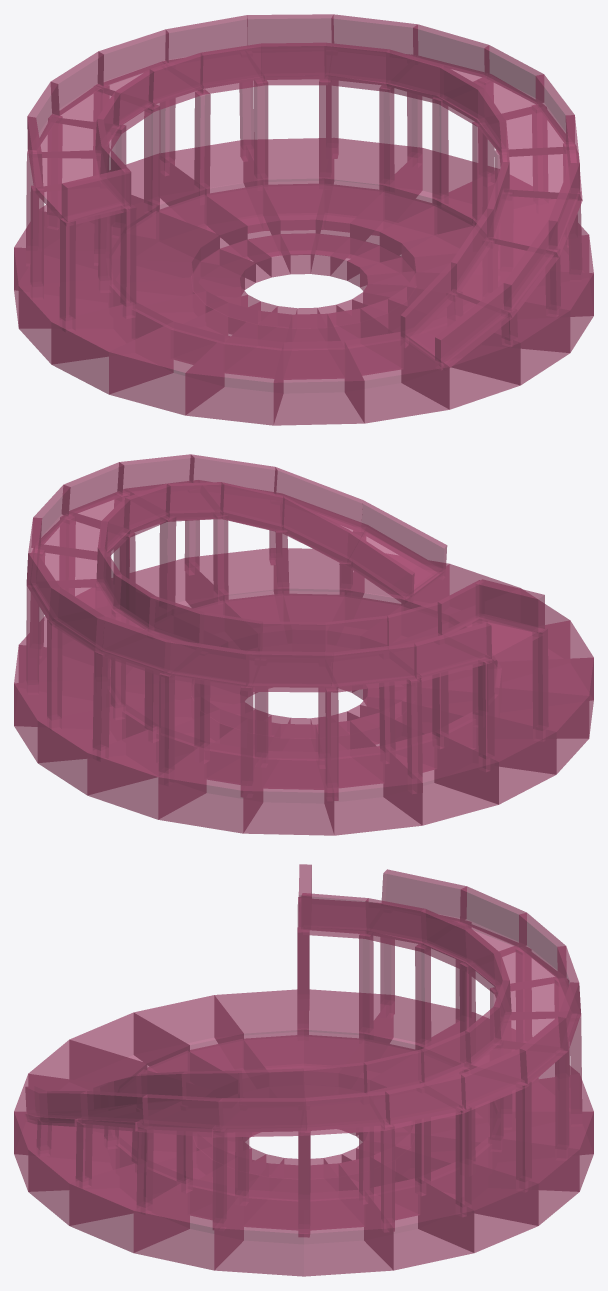
File: SM_Bld_Planetarium_01_Ramp_01_Collision.fbx
The picture shows the model from 3 angles, top to bottom: view 1: azimuth 30°, elevation 25°; view 2: azimuth 150°, elevation 25°; view 3: azimuth 270°, elevation 25°; orthographic projection.
Visible parts, largest first — view 1: SM_Bld_Planetarium_01_Ramp_01_Collision; view 2: SM_Bld_Planetarium_01_Ramp_01_Collision; view 3: SM_Bld_Planetarium_01_Ramp_01_Collision.
Boxes of the visible parts, left/top/right/bottom form: SM_Bld_Planetarium_01_Ramp_01_Collision: left=14, top=14, right=593, bottom=425; SM_Bld_Planetarium_01_Ramp_01_Collision: left=14, top=454, right=593, bottom=835; SM_Bld_Planetarium_01_Ramp_01_Collision: left=14, top=864, right=593, bottom=1276.
Bounding box in the file's own units: 1578 × 549 × 1578.
